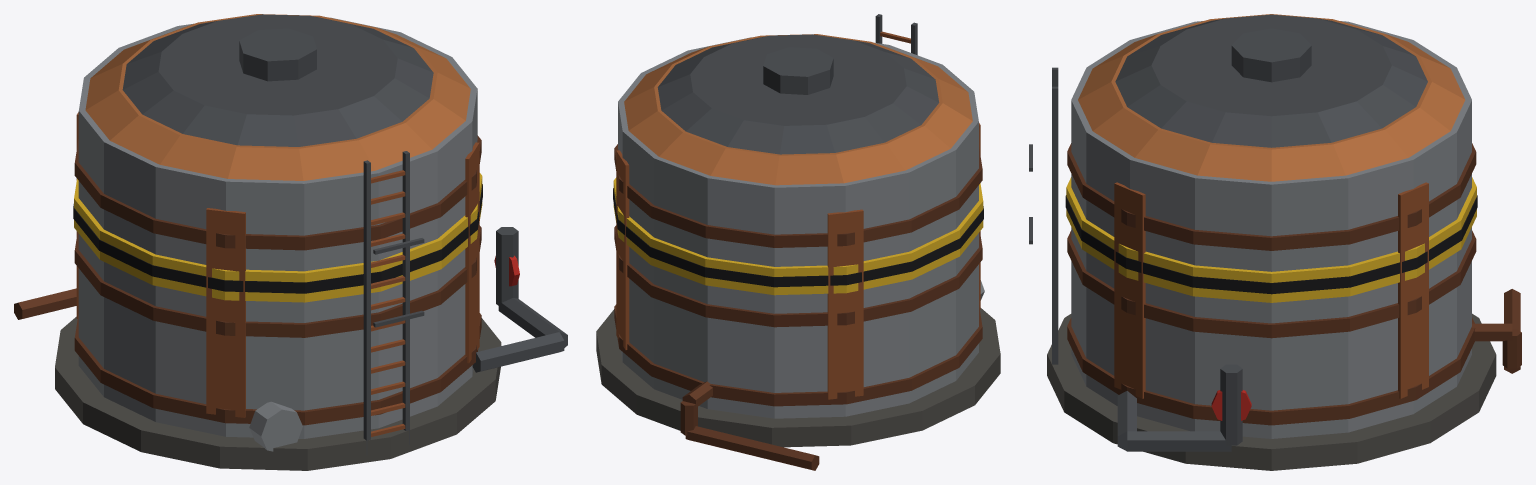
File: lmk_fuel_tank.fbx
3 views of the same model, side by side, from view 1: azimuth 30°, elevation 25°; view 2: azimuth 150°, elevation 25°; view 3: azimuth 270°, elevation 25° (orthographic). The views are drawn at different scales.
Visible parts, largest first — view 1: lmk_fuel_tank; view 2: lmk_fuel_tank; view 3: lmk_fuel_tank.
Boxes of the visible parts, <box> form: lmk_fuel_tank: <box>14,14,567,470</box>; lmk_fuel_tank: <box>596,14,1000,470</box>; lmk_fuel_tank: <box>1029,14,1521,470</box>.
Size of the model in its own units: 5.92 by 4.55 by 6.15.
